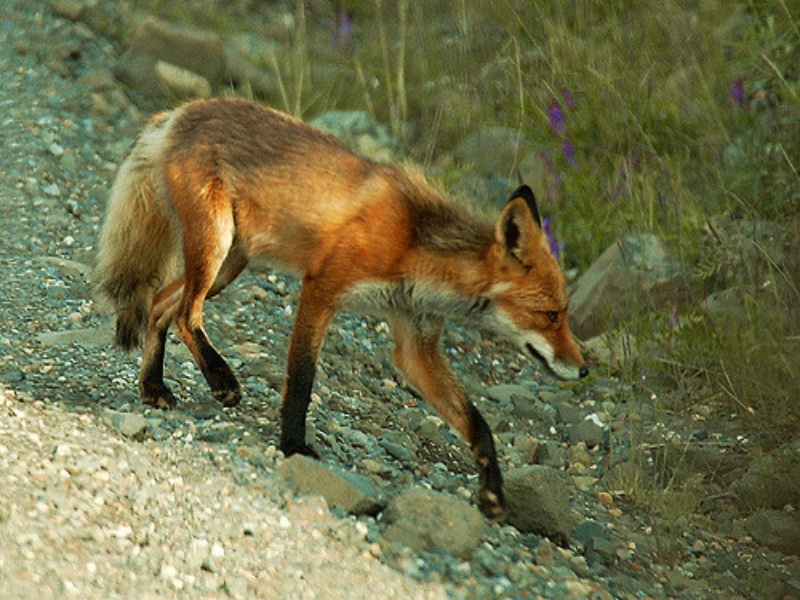fox: (97, 92, 607, 525)
